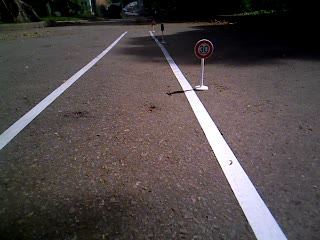limit 30: (191, 36, 217, 61)
